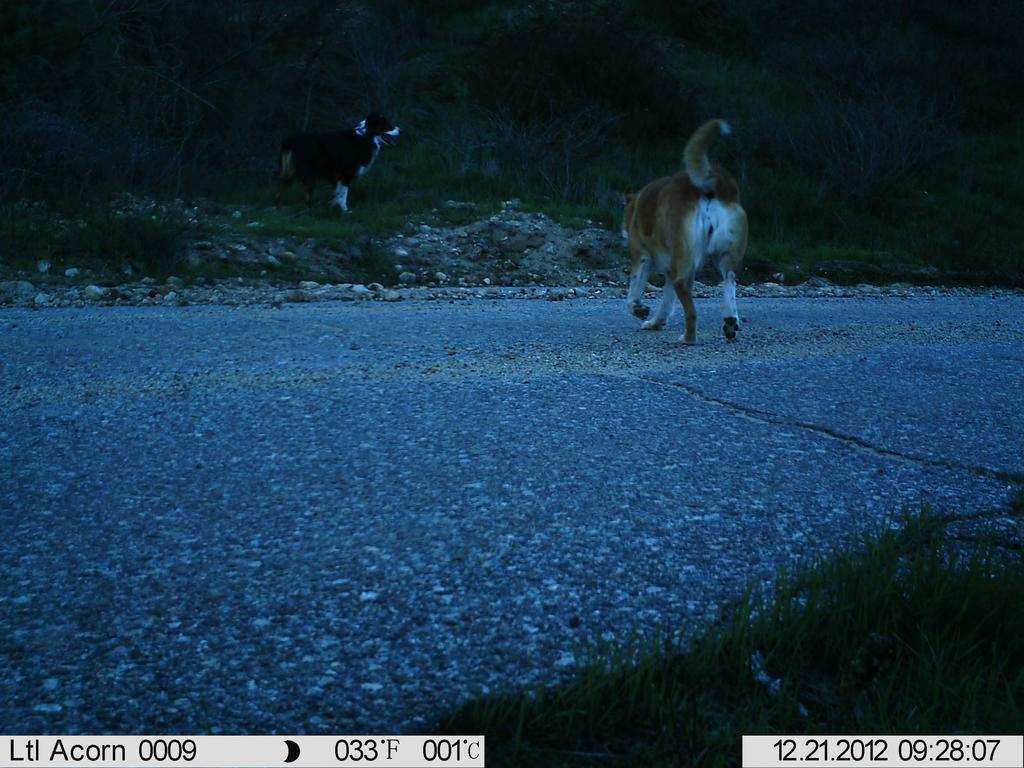dog: (602, 111, 770, 356), (249, 103, 409, 231)
